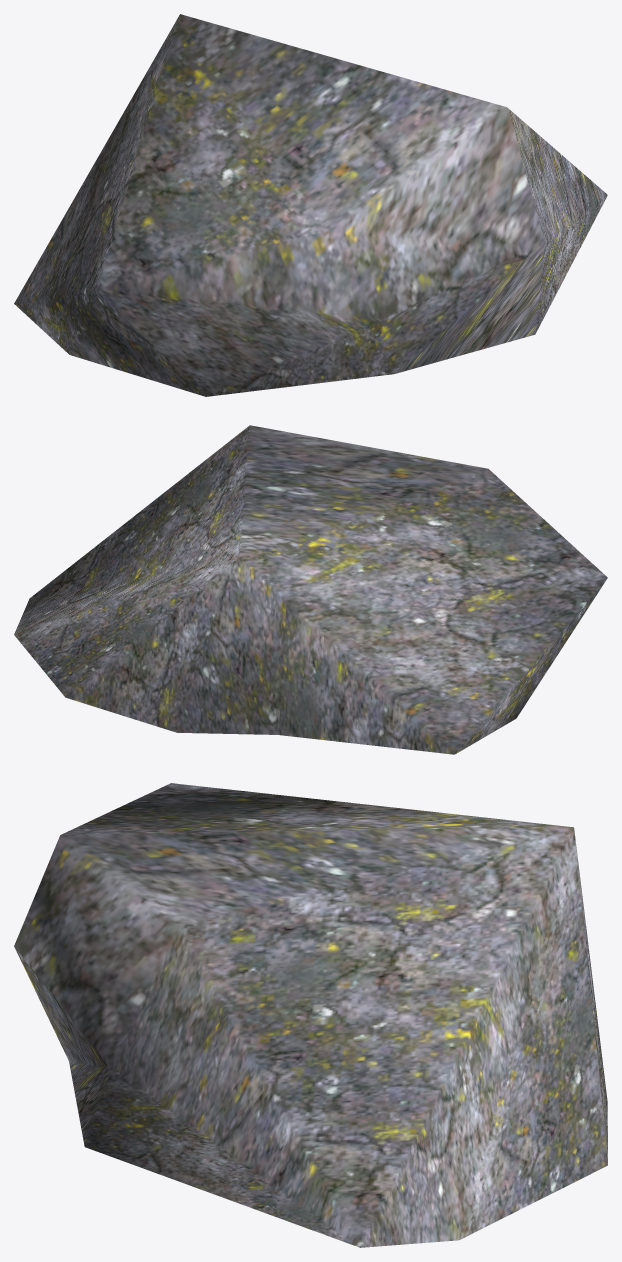
The model's file is rock_weatheredmossy_medium_a3_l2.fbx.
The picture shows the model from 3 angles, top to bottom: view 1: azimuth 30°, elevation 25°; view 2: azimuth 150°, elevation 25°; view 3: azimuth 270°, elevation 25°; orthographic projection. The views are drawn at different scales.
Parts seen in each view (by area): view 1: mesh_node; view 2: mesh_node; view 3: mesh_node.
Part boxes in pixels (<box>): mesh_node: <box>14,14,607,396</box>; mesh_node: <box>14,425,607,754</box>; mesh_node: <box>14,783,607,1247</box>.
Bounding box in the file's own units: 0.4361 × 0.1487 × 0.3247.
Materials: 1 (1 with a texture image).
